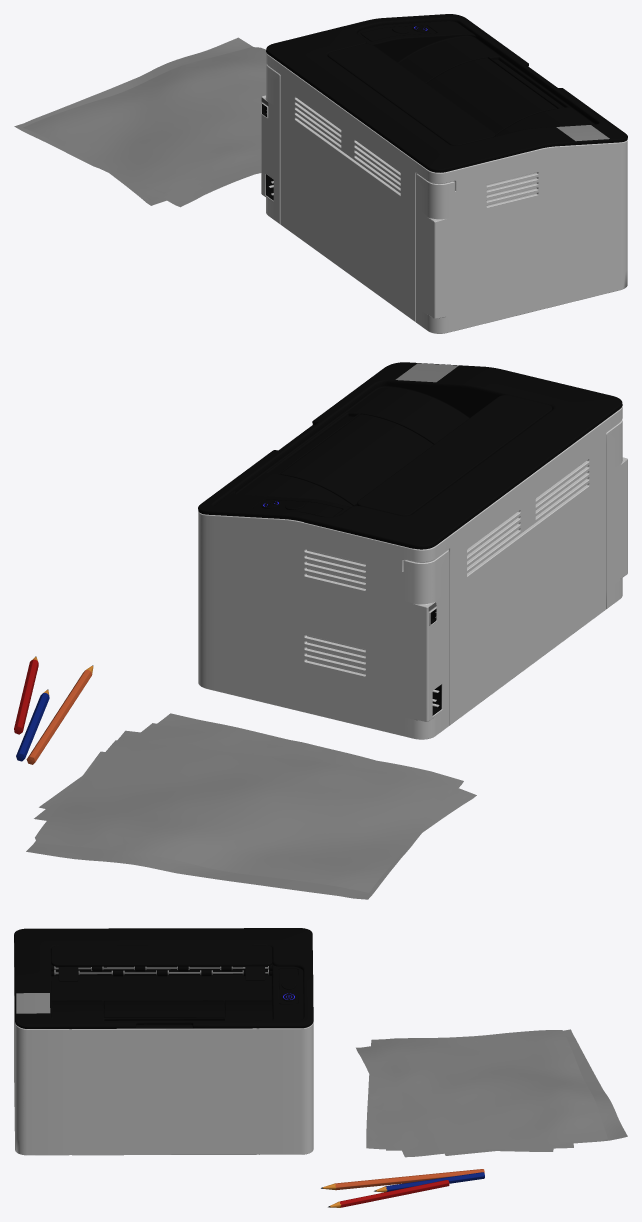
Rendered from printer_fbx.FBX.
3 views of the same model, one above another, from view 1: azimuth 30°, elevation 25°; view 2: azimuth 150°, elevation 25°; view 3: azimuth 270°, elevation 25° (orthographic). The views are drawn at different scales.
Parts seen in each view (by area): view 1: Rectangle02, v; view 2: Rectangle02, v, Cylinder8527, Cylinder8525, Cylinder8529; view 3: Rectangle02, v, Cylinder8527, Cylinder8525, Cylinder8529.
Part boxes in pixels (x1,y1,x2,y2): Rectangle02: (261,14,627,333); v: (14,37,266,207); Rectangle02: (198,362,627,739); v: (26,713,476,899); Cylinder8527: (26,665,93,764); Cylinder8525: (14,656,38,734); Cylinder8529: (16,689,49,761); Rectangle02: (14,928,313,1155); v: (356,1029,627,1157); Cylinder8527: (321,1169,484,1190); Cylinder8525: (328,1180,449,1207); Cylinder8529: (374,1172,484,1192).
Bounding box in the file's own units: 470 × 180 × 683.
